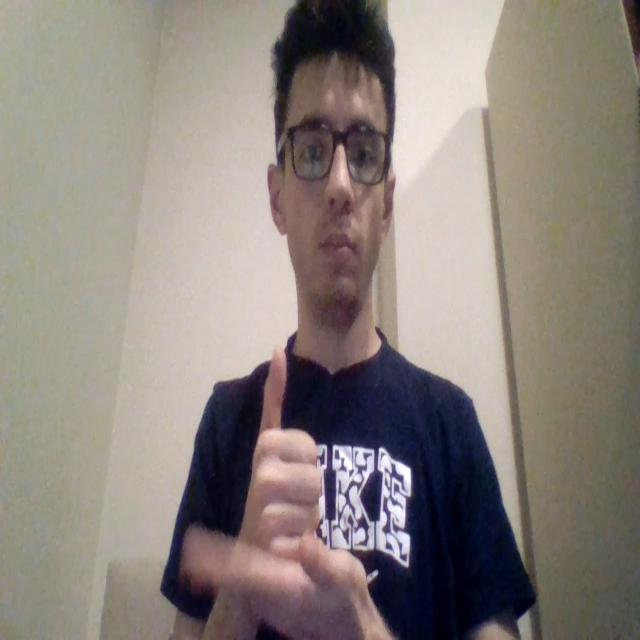help: (182, 344, 372, 626)
